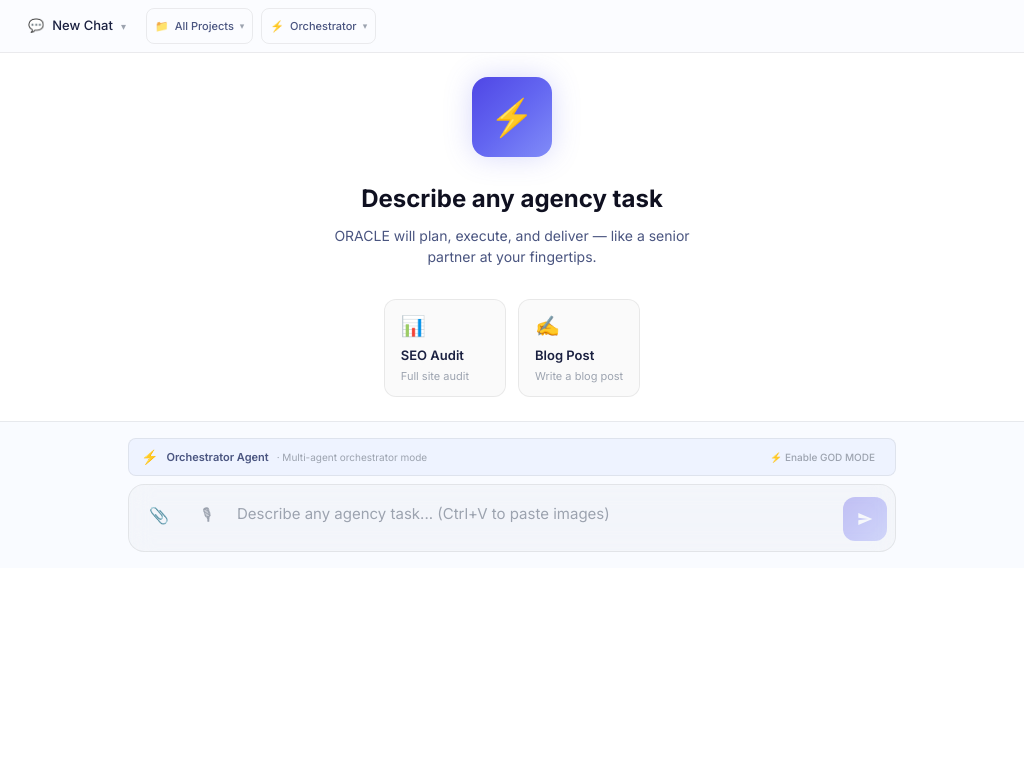
Test case: Agency Brain End-to-End Integration › new conversation resets agency state › clears operating loop results when starting a new conversation
The image size is (1024, 768).
Note: Send a complex task
Type "Comprehensive end-to-end strategy for dental clinic" into the text box named "Chat input".
click(536, 519); type("Comprehensive end-to-end strategy for dental clinic")  # box 237,495 -> 835,543
Then press Enter
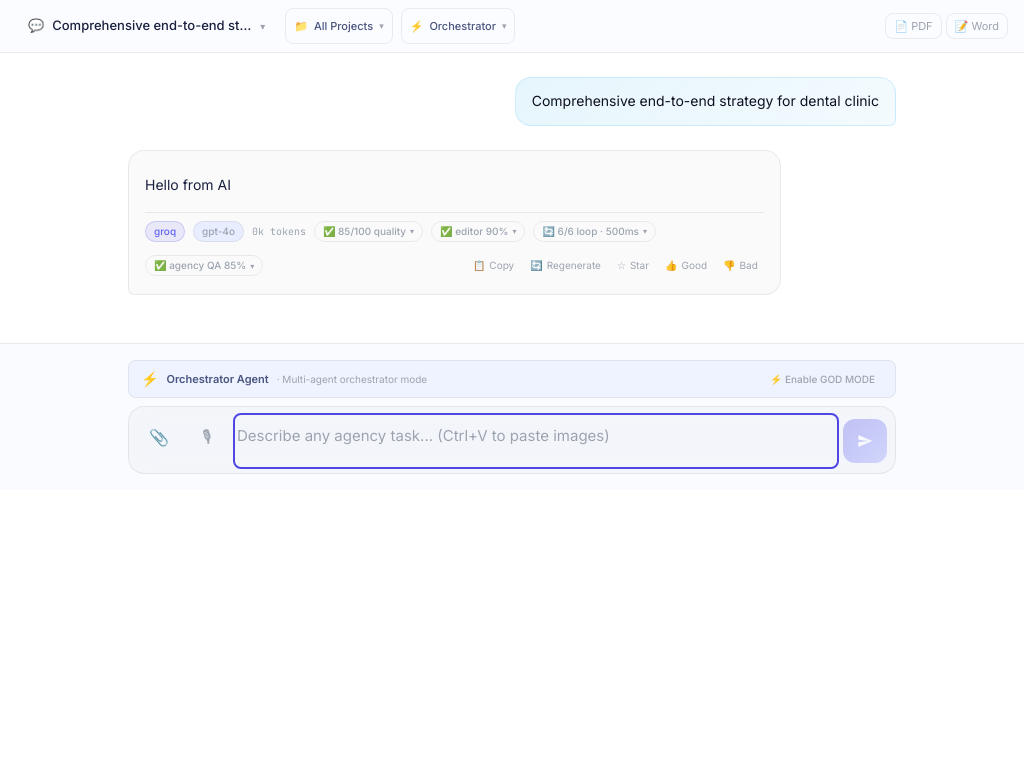
Now the button "🔄 6/6 loop · 500ms ▾" is shown, box 533,221 -> 656,242
Now the button "✅ agency QA 85% ▾" is shown, box 145,255 -> 263,276
Note: Start new conversation
Click the button with aria-label "Toggle conversation list".
click(147, 26)  # box 16,8 -> 277,44
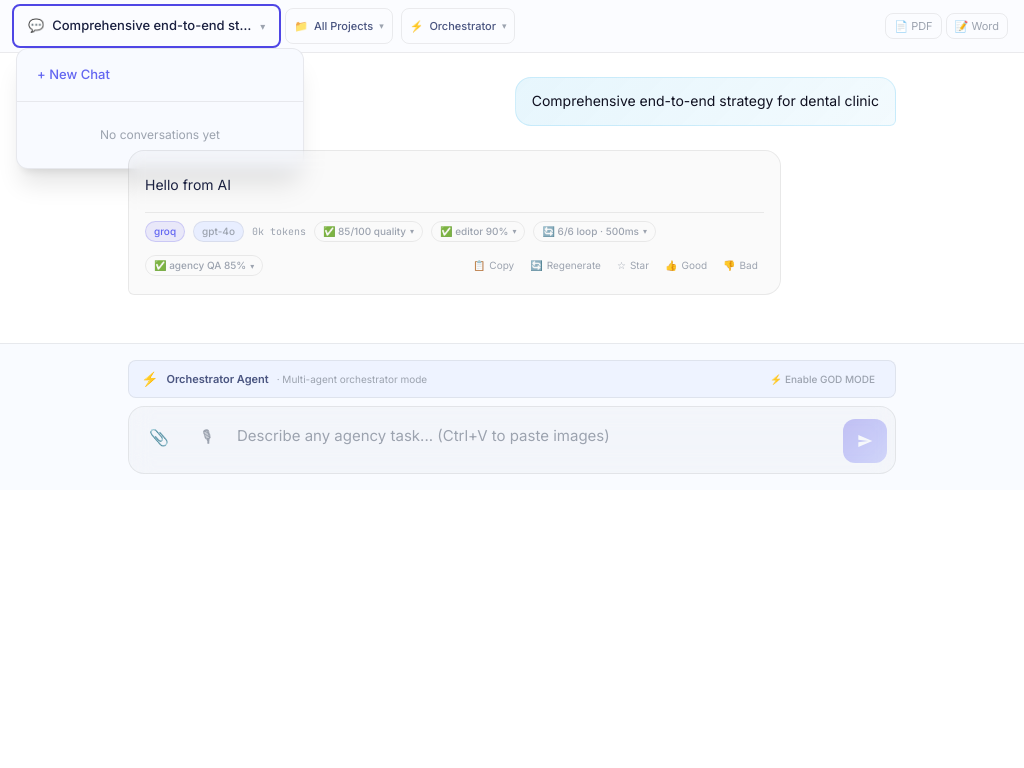
Now the button "+ New Chat" is shown
Click the button "+ New Chat".
click(73, 74)  # box 25,57 -> 295,92
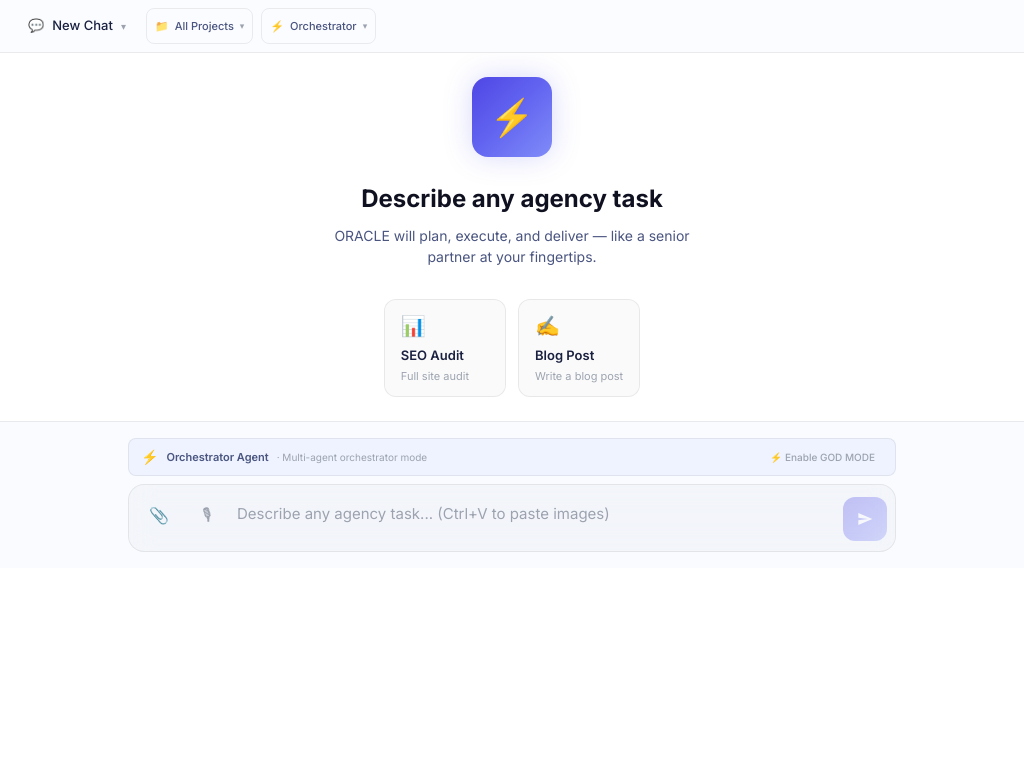
Now the button "🔄 6/6 loop · 500ms ▾" is gone
Now the button "agency QA" is gone
